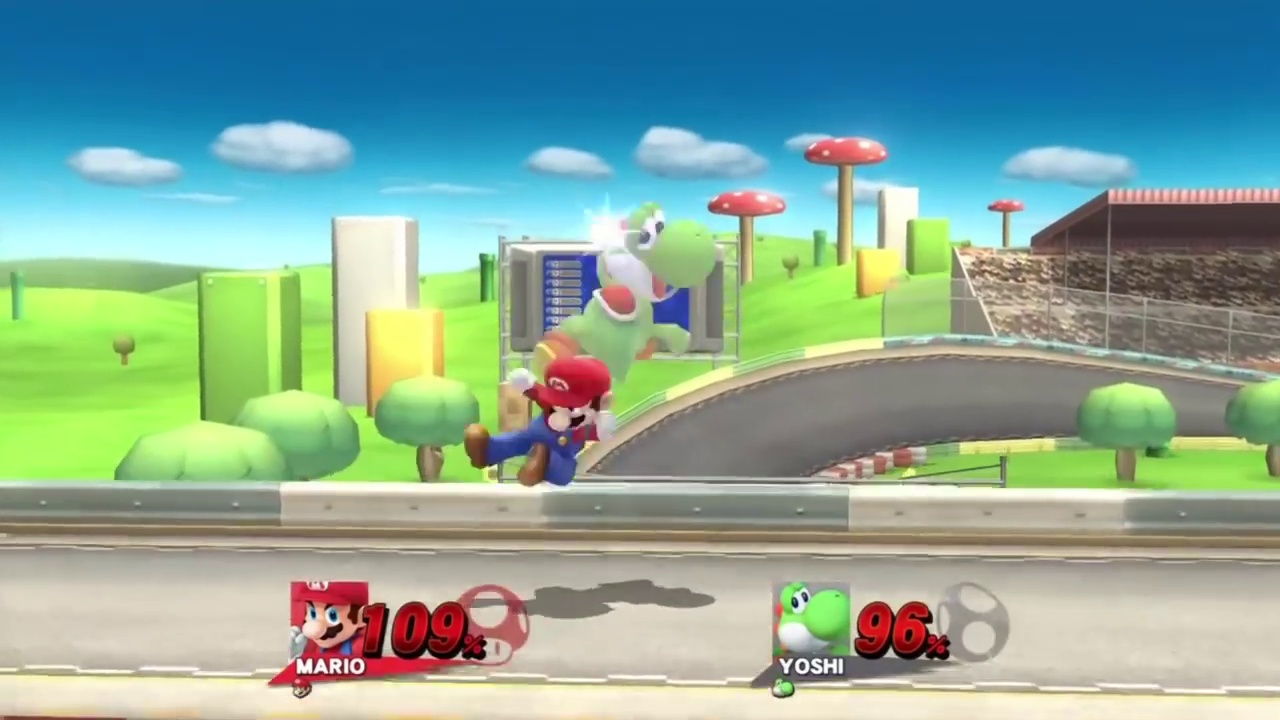Mario: (461, 354, 625, 488)
